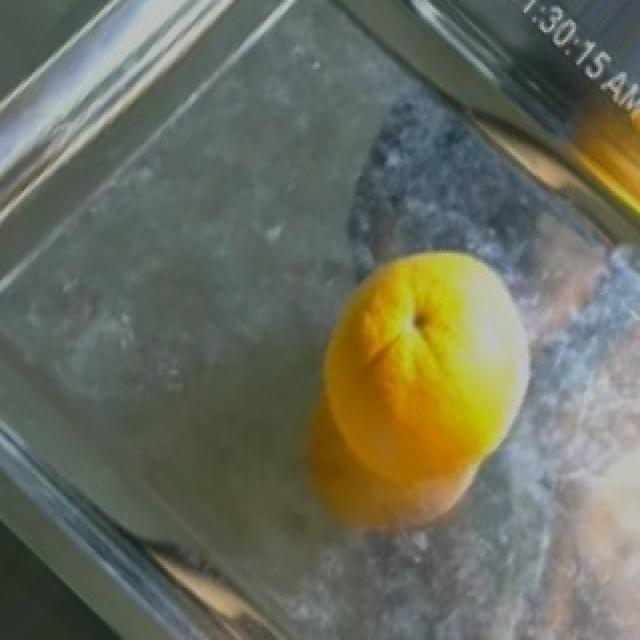Fruit: (286, 228, 546, 561), (562, 62, 640, 270)
